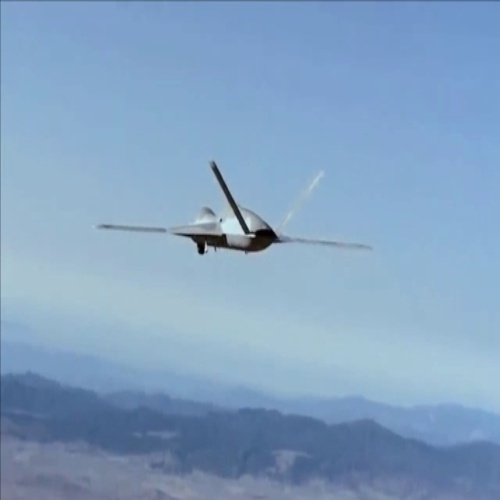uav957: (91, 157, 380, 264)
